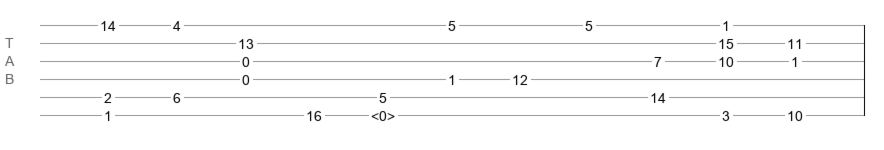0: (242, 54, 250, 64), (242, 72, 250, 82)
1: (104, 108, 112, 118), (448, 72, 456, 82), (722, 18, 730, 28), (791, 54, 799, 64)
10: (718, 54, 734, 64), (787, 108, 803, 118)
11: (787, 36, 803, 46)
12: (512, 72, 528, 82)
13: (238, 36, 254, 46)
14: (100, 18, 116, 28), (650, 90, 666, 100)
15: (718, 36, 734, 46)
16: (306, 108, 322, 118)
2: (104, 90, 112, 100)
3: (722, 108, 730, 118)
4: (173, 18, 181, 28)
5: (379, 90, 387, 100), (448, 18, 456, 28), (585, 18, 593, 28)
6: (173, 90, 181, 100)
7: (654, 54, 662, 64)
harmonic: (371, 108, 395, 118)
